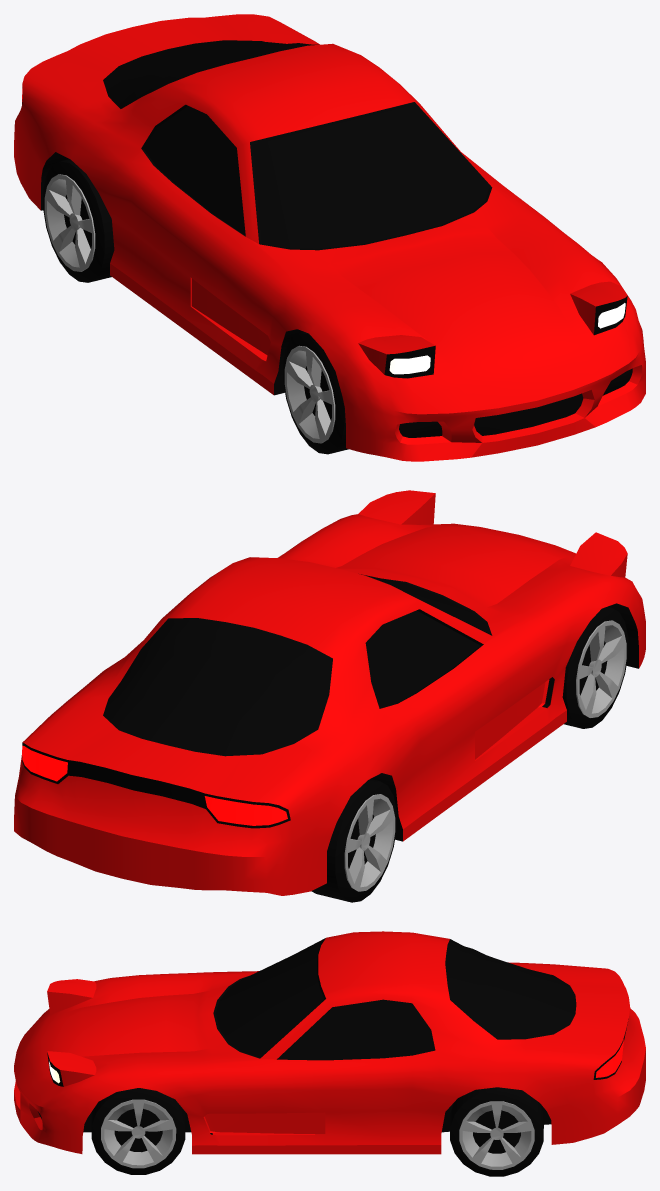
The model's file is Mazda RX-7.fbx.
The picture shows the model from 3 angles, top to bottom: view 1: azimuth 30°, elevation 25°; view 2: azimuth 150°, elevation 25°; view 3: azimuth 270°, elevation 25°; orthographic projection. The views are drawn at different scales.
Parts seen in each view (by area): view 1: RX-7, BR_Wheel, FR_Wheel; view 2: RX-7, BR_Wheel, FR_Wheel; view 3: RX-7, BL_Wheel, FL_Wheel.
Part boxes in pixels (x1,y1,x2,y2): RX-7: (14, 14, 645, 461); BR_Wheel: (43, 159, 114, 282); FR_Wheel: (283, 332, 348, 454); RX-7: (14, 490, 645, 895); BR_Wheel: (311, 779, 396, 902); FR_Wheel: (562, 606, 628, 728); RX-7: (14, 931, 645, 1154); BL_Wheel: (450, 1087, 543, 1176); FL_Wheel: (91, 1088, 185, 1174).
Size of the model in its own units: 181 by 126 by 433.
